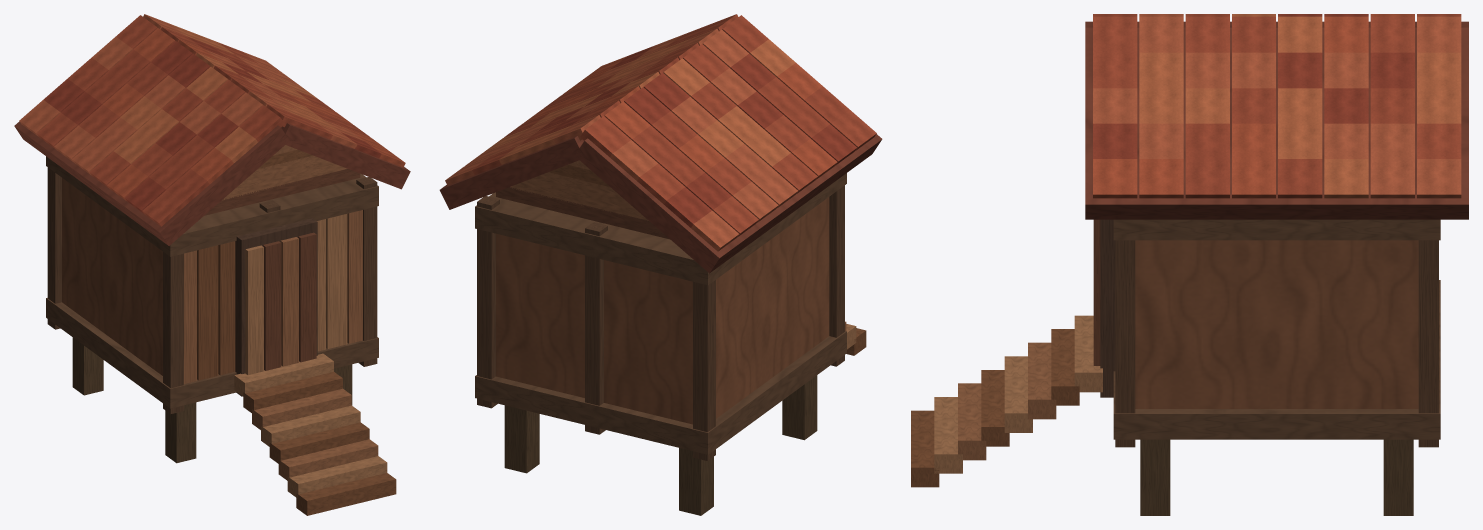
Rendered from coop.glb.
3 views of the same model, side by side, from view 1: azimuth 30°, elevation 25°; view 2: azimuth 150°, elevation 25°; view 3: azimuth 270°, elevation 25° (orthographic). The views are drawn at different scales.
Visible parts, largest first — view 1: coop; view 2: coop; view 3: coop.
Boxes of the visible parts, x1,y1,x2,y2 form: coop: (14,14,410,515); coop: (439,14,882,515); coop: (911,14,1468,515).
Bounding box in the file's own units: 2.28 × 2.94 × 3.34.
Materials: 2 (2 with a texture image).
